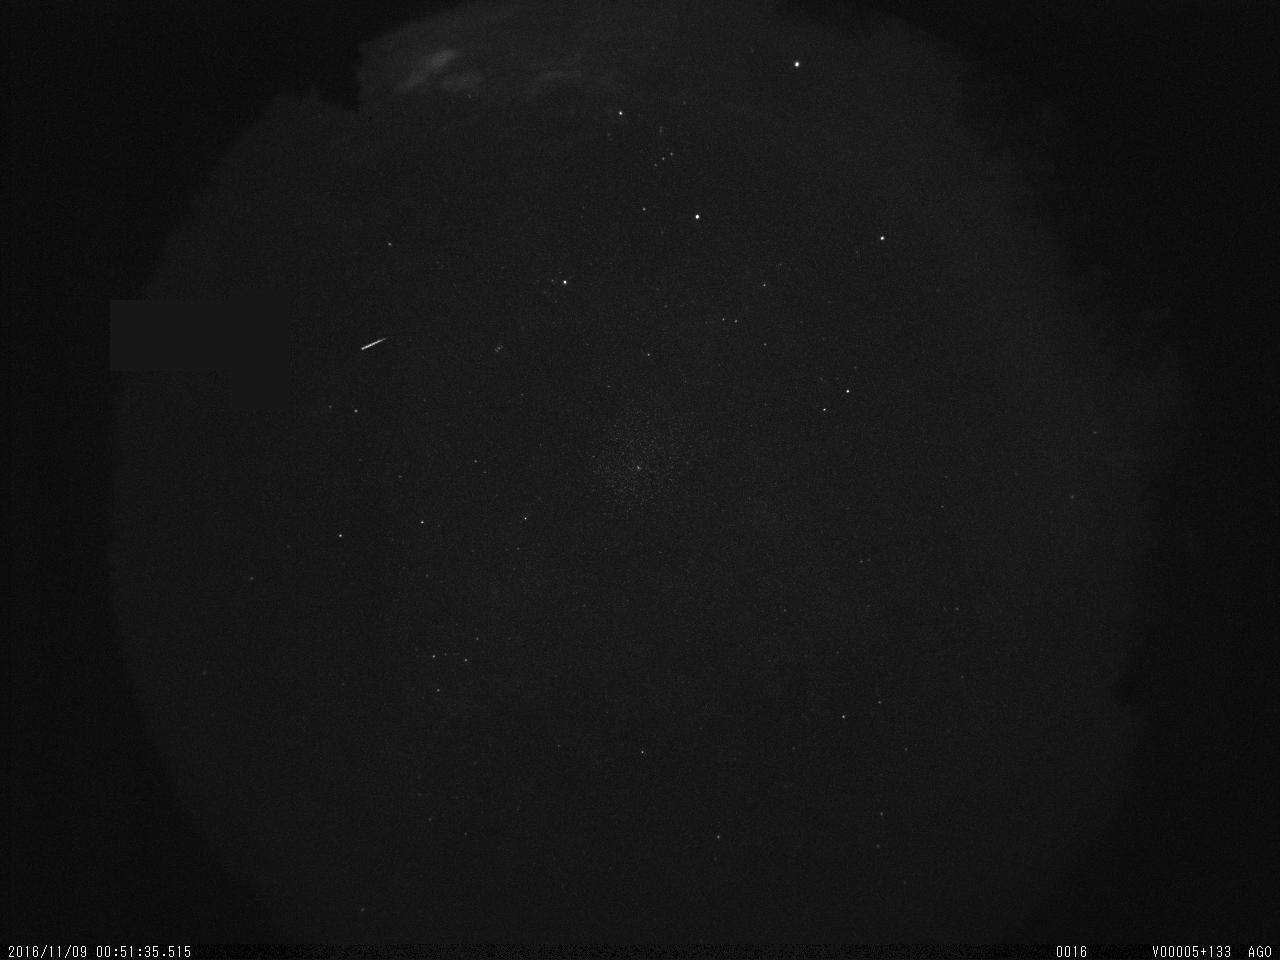meteor: (352, 326, 394, 359)
